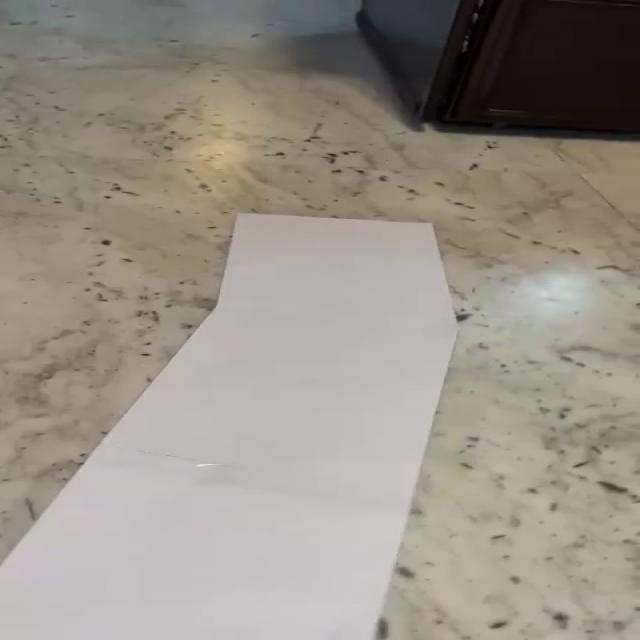road: (2, 214, 457, 640)
